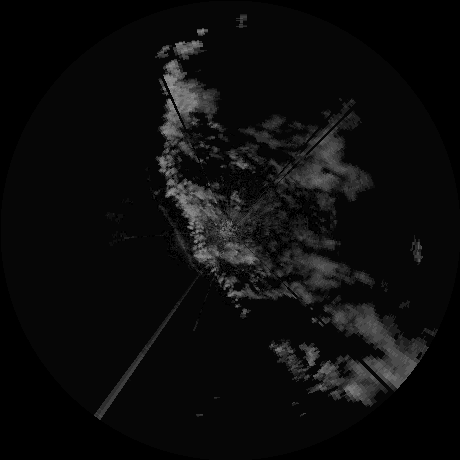frontgust: (157, 205, 201, 274)
